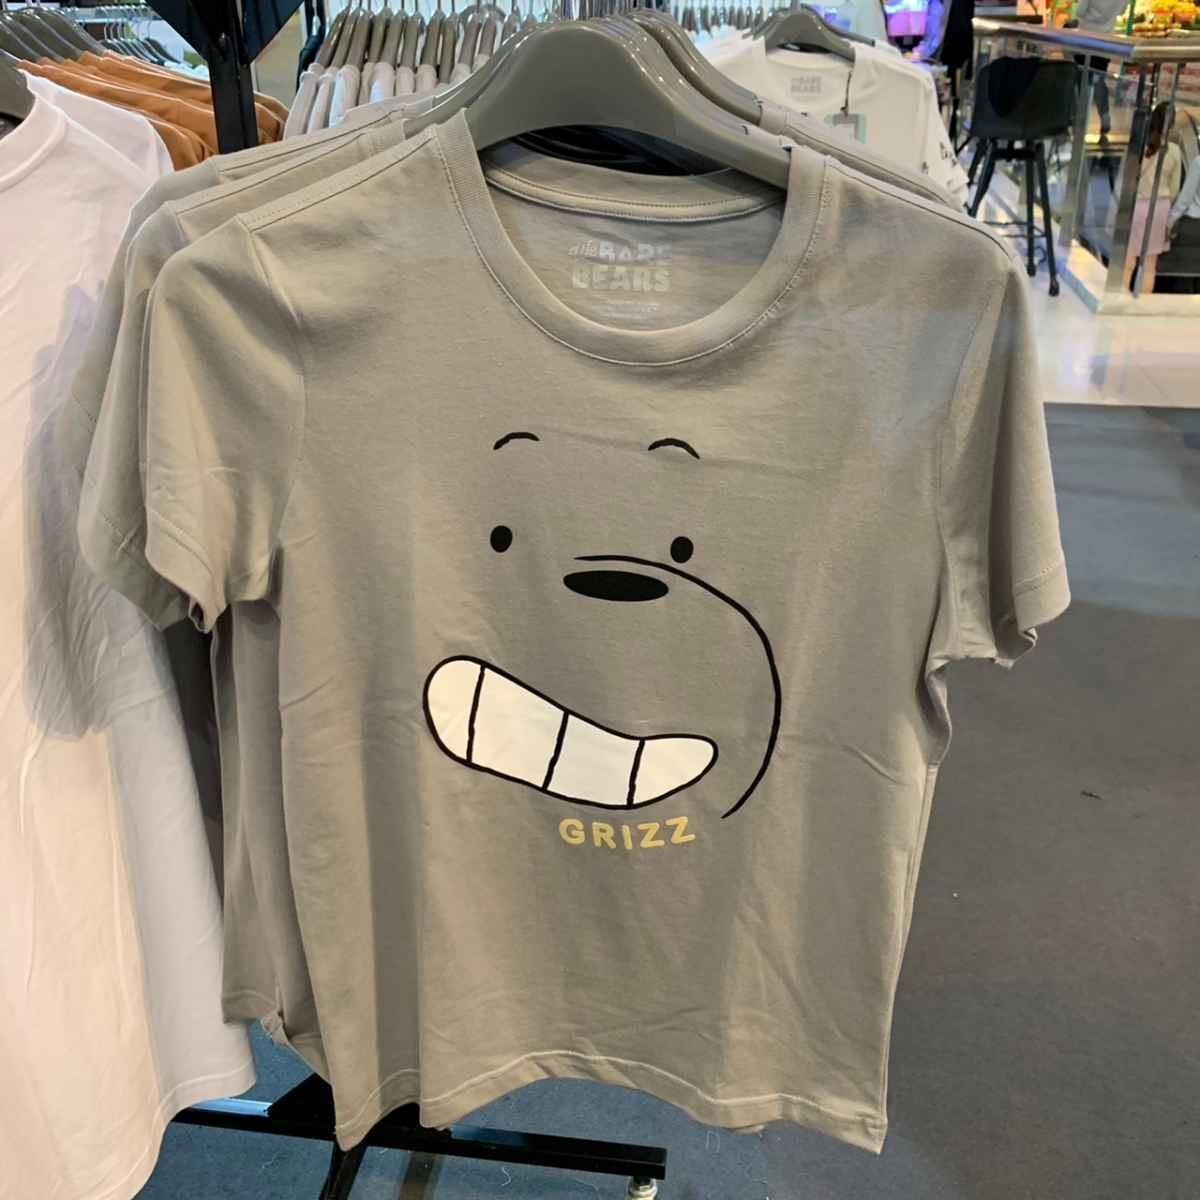Tshirt: (91, 126, 1088, 1167)
